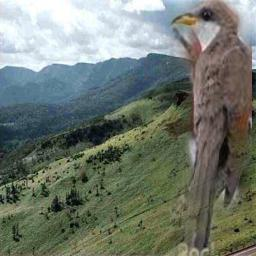Cuckoo: (170, 0, 252, 256)
